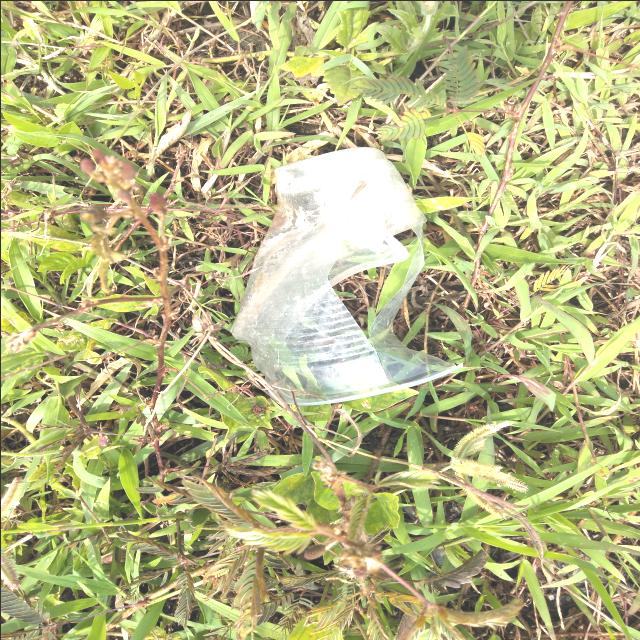Disposable plastic cup: (228, 146, 463, 404)
